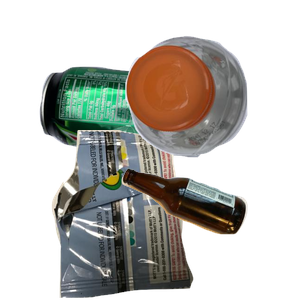glass: (119, 166, 300, 300)
metal: (37, 64, 245, 214)
plastic: (123, 33, 300, 181)
trash: (49, 130, 235, 300)
